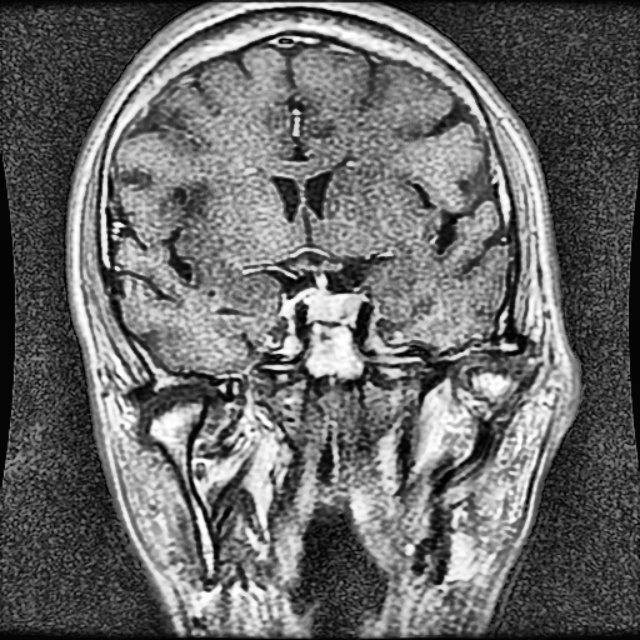Pituitary: (307, 290, 355, 320)
